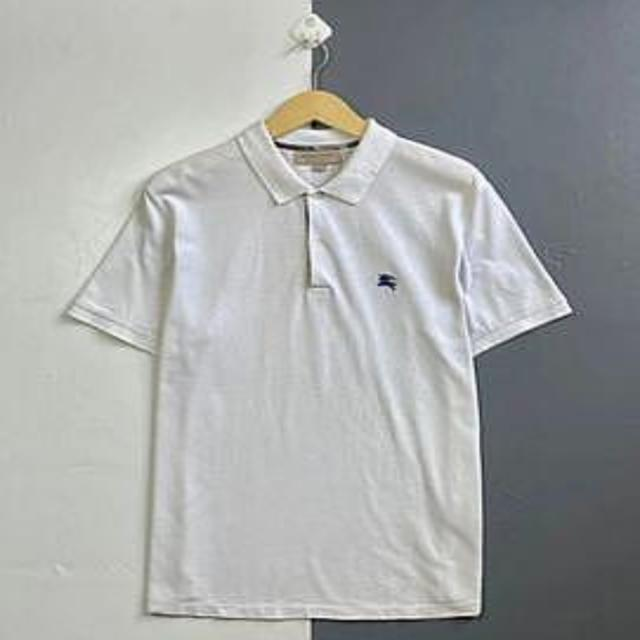T_SHIRT: (50, 68, 599, 636)
